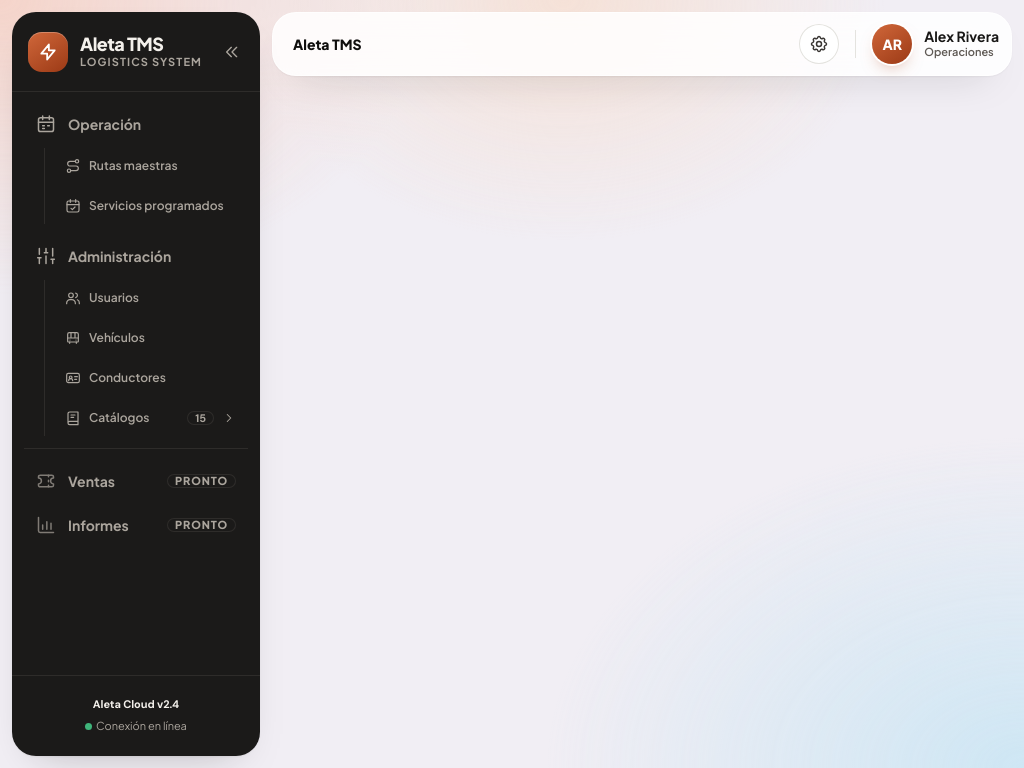
Test case: AppShellComponent (TDD Suite - Aleta TMS) › debe permitir colapsar y expandir el sidebar a modo mini-rail con el botón toggle
Step 1. Click the button with test id "btn-toggle-sidebar" → click(232, 52), box [216,36,248,68]
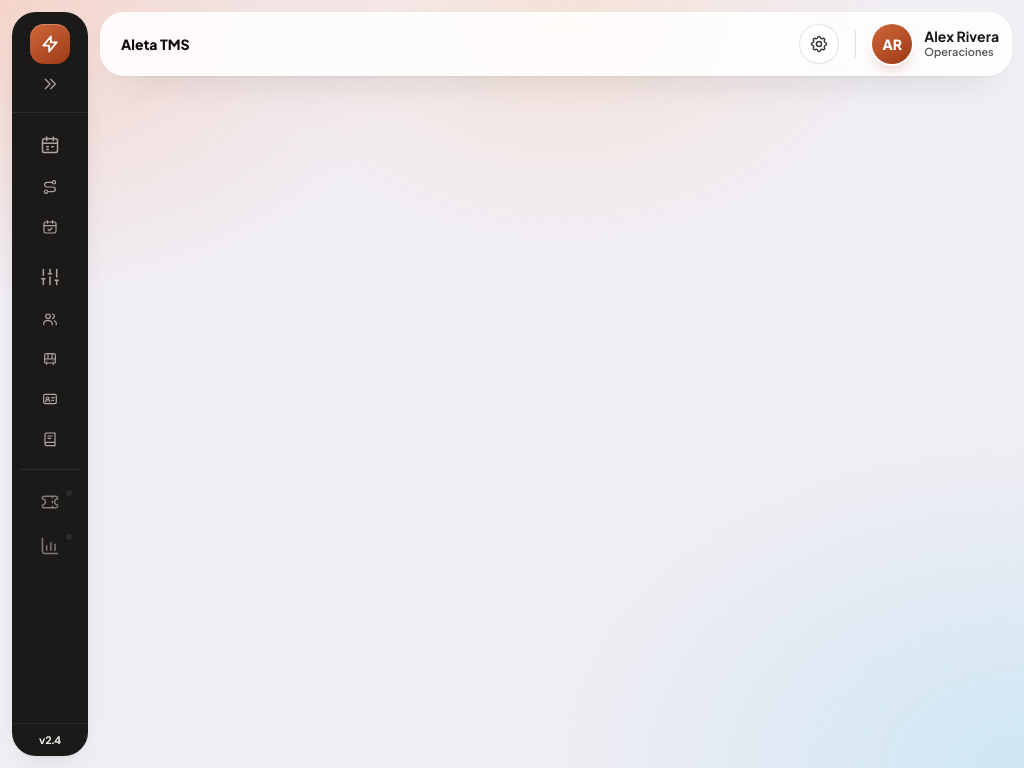
Result: the button with test id "btn-toggle-sidebar" is collapsed at [34,68,66,100]
